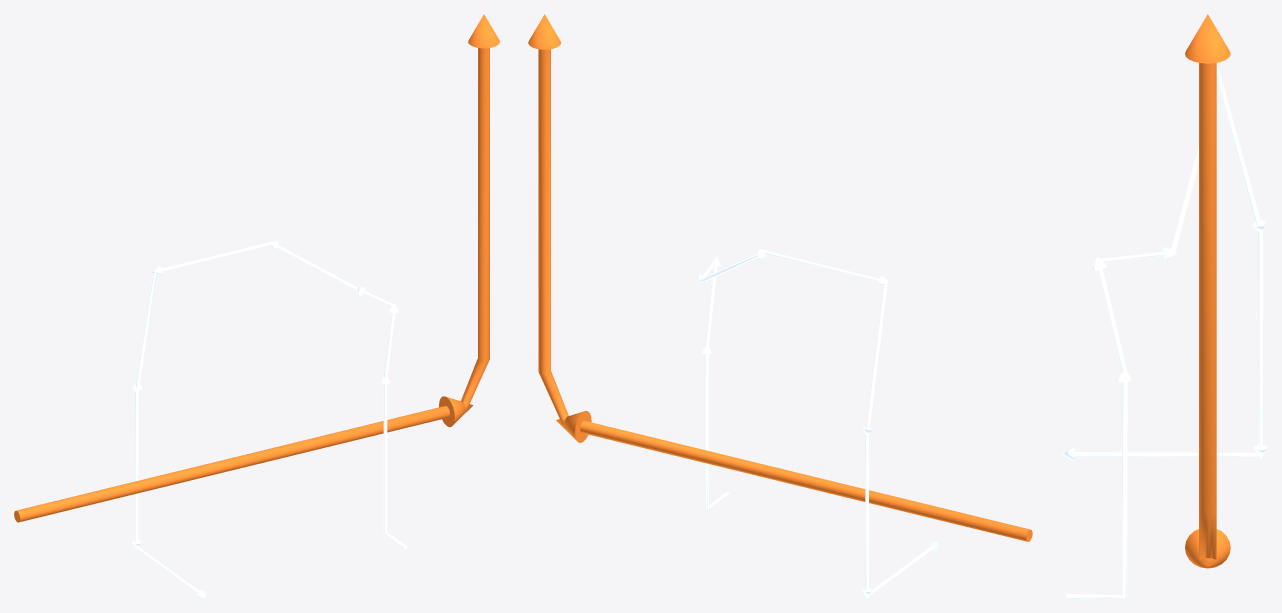
The model's file is waste_heat_recovery_boiler_flow.glb.
3 views of the same model, side by side, from view 1: azimuth 30°, elevation 25°; view 2: azimuth 150°, elevation 25°; view 3: azimuth 270°, elevation 25° (orthographic). The views are drawn at different scales.
Parts seen in each view (by area): view 1: exhaust_gas, water_steam; view 2: exhaust_gas, water_steam; view 3: exhaust_gas, water_steam.
Boxes of the visible parts, <box> form: exhaust_gas: <box>14,14,499,522</box>; water_steam: <box>132,241,407,598</box>; exhaust_gas: <box>528,14,1032,541</box>; water_steam: <box>697,249,938,598</box>; exhaust_gas: <box>1185,14,1230,568</box>; water_steam: <box>1061,63,1267,598</box>.
Size of the model in its own units: 4.53 by 4.24 by 1.17.
